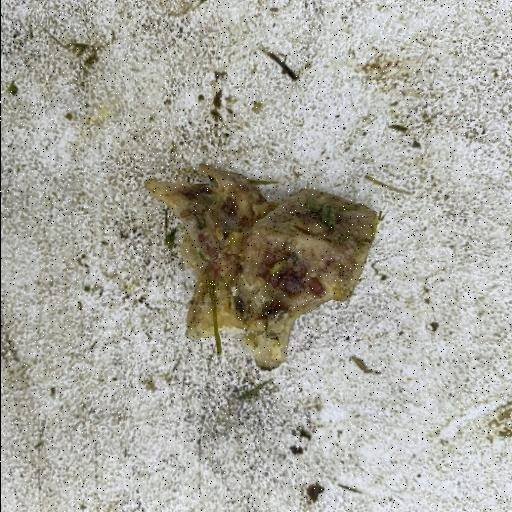Waste: (142, 162, 380, 371)
